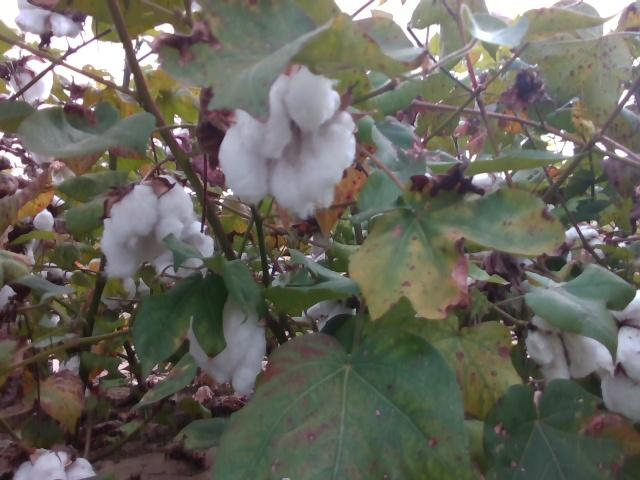cotton_ready: (220, 68, 358, 220), (102, 171, 195, 281), (188, 296, 268, 395), (527, 314, 616, 383), (604, 290, 640, 425), (156, 232, 214, 284), (14, 449, 98, 480), (15, 0, 84, 37), (60, 348, 103, 396), (10, 59, 55, 102), (101, 276, 149, 313), (307, 300, 355, 335), (20, 197, 66, 233)
